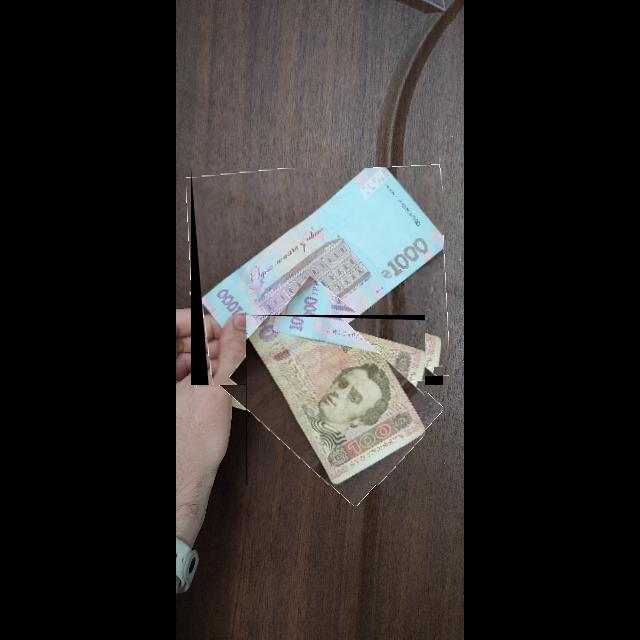1000uah: (201, 168, 444, 384)
100uah: (247, 316, 426, 486)
